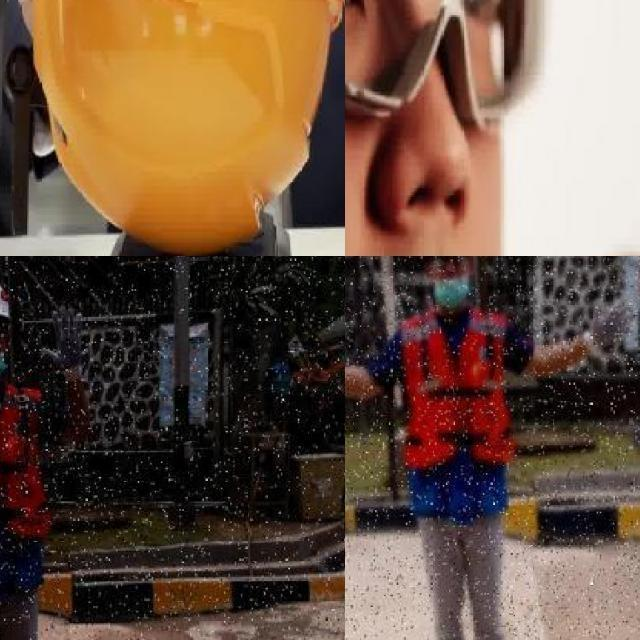apron: (581, 293, 635, 361), (40, 304, 83, 384)
